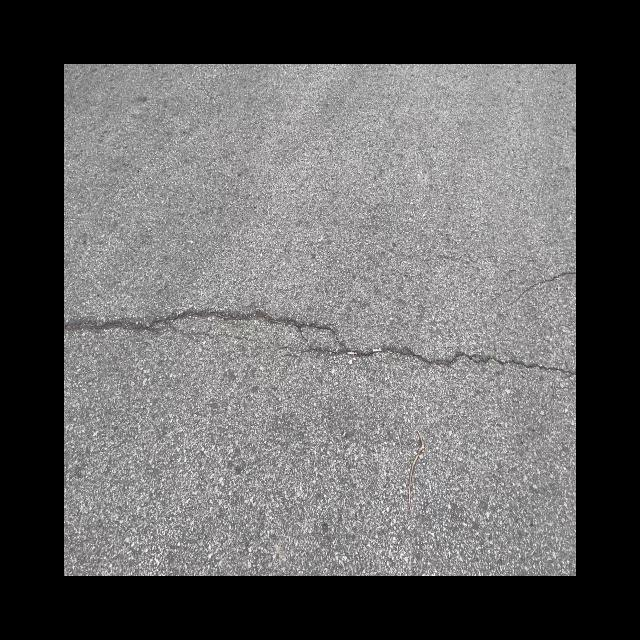retak_memanjang: (64, 256, 576, 408)
